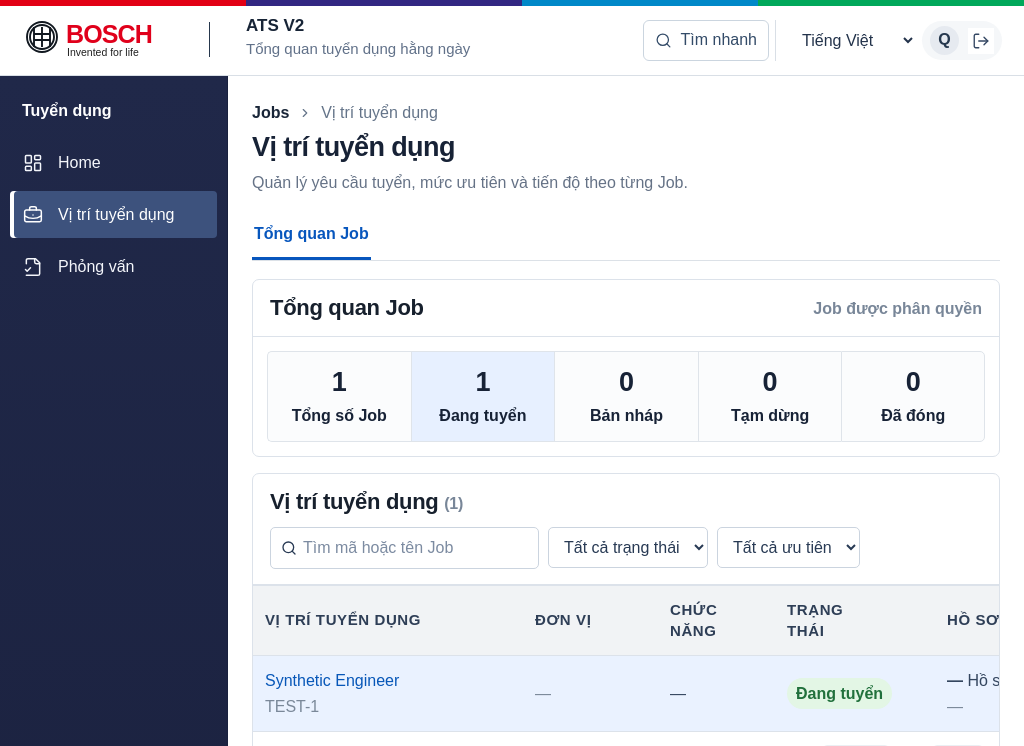
HM sees scoped jobs and accurate loaded counts, without review entry
Type "Unmatched" into the field named "Tìm Job" at (416, 548), box [303,528,528,568]
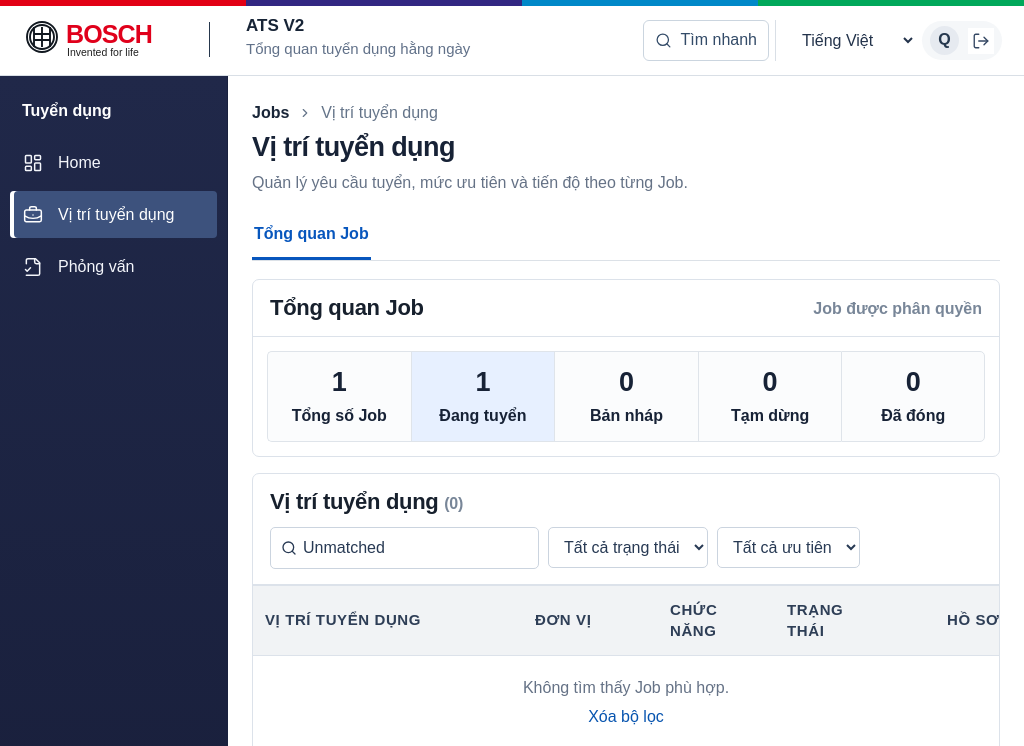
Expected: the button "Synthetic Engineer" is gone
